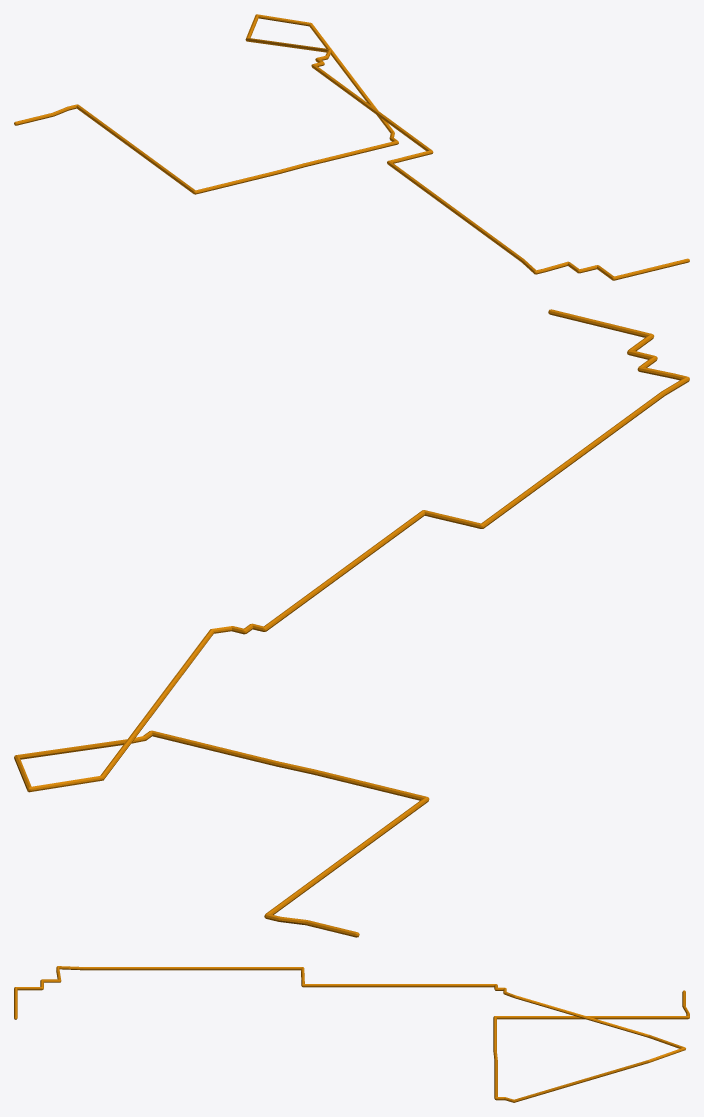
3 views of the same model, one above another, from view 1: azimuth 30°, elevation 25°; view 2: azimuth 150°, elevation 25°; view 3: azimuth 270°, elevation 25° (orthographic). The views are drawn at different scales.
Size of the model in its own units: 1492 by 520 by 3850.
